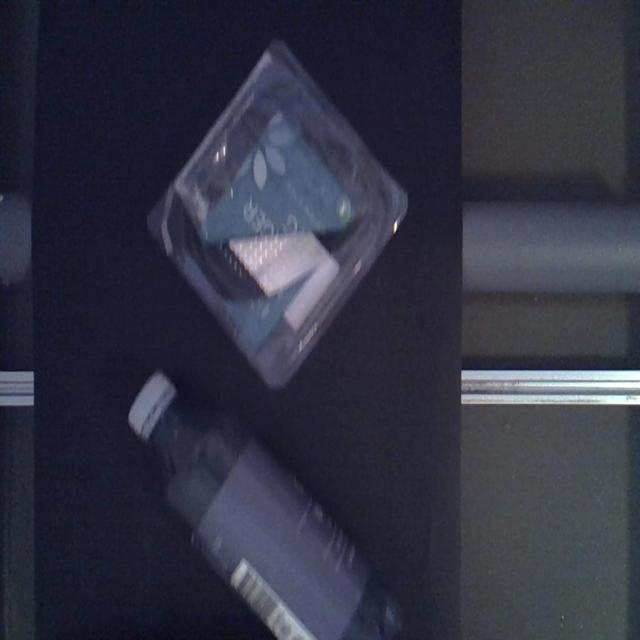bottle-plastic: (125, 365, 403, 637)
mixed-plastics: (148, 35, 412, 392)
